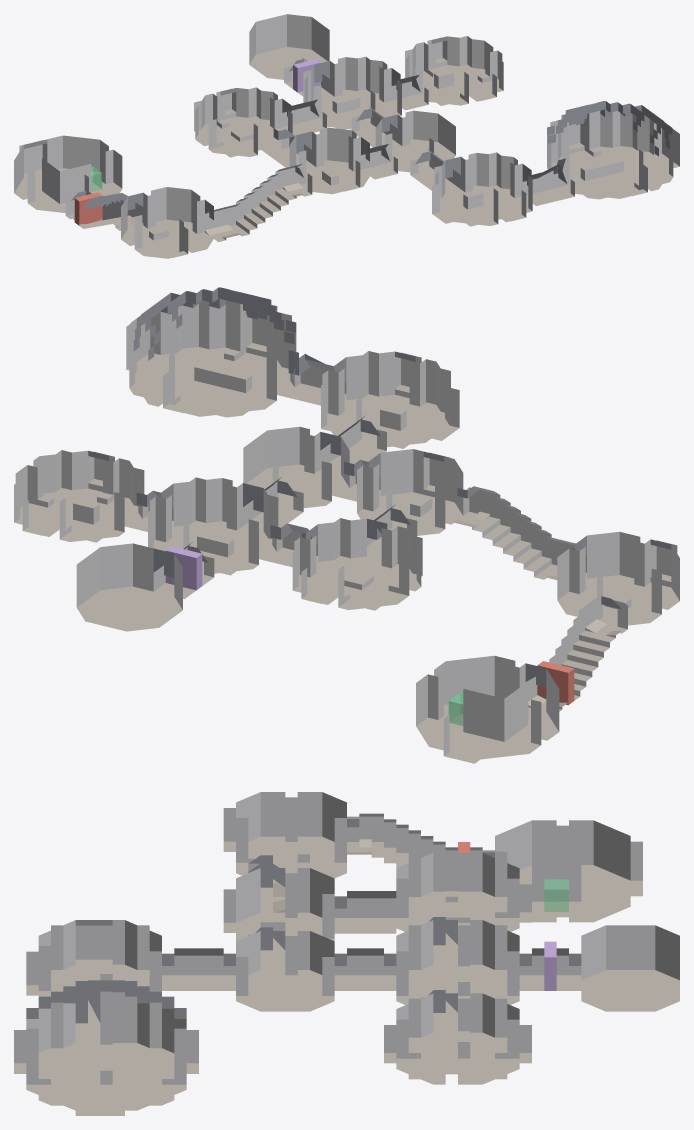
File: station_3_tree_research.glb
3 renders of one model, top to bottom at view 1: azimuth 30°, elevation 25°; view 2: azimuth 150°, elevation 25°; view 3: azimuth 270°, elevation 25°, orthographic. The views are drawn at different scales.
Visible parts, largest first — view 1: room:7, room:8, room:4, room:6, room:5, room:9, room:2, room:3, corridor:1, room:0, room:1, corridor:2 (+27 smaller); view 2: room:7, room:8, room:4, room:3, room:9, room:6, room:5, room:2, room:1, room:0, corridor:1, corridor:2 (+24 smaller); view 3: room:7, room:3, room:9, room:6, room:5, room:4, room:2, room:0, room:8, room:1, corridor:2, corridor:7 (+29 smaller).
Part boxes in pixels (x1=…): room:7: x1=547, y1=101, x2=673, y2=199; room:8: x1=434, y1=152, x2=532, y2=226; room:4: x1=194, y1=87, x2=292, y2=157; room:6: x1=405, y1=36, x2=503, y2=105; room:5: x1=303, y1=56, x2=401, y2=130; room:9: x1=249, y1=14, x2=329, y2=80; room:2: x1=121, y1=187, x2=213, y2=258; room:3: x1=14, y1=135, x2=122, y2=213; corridor:1: x1=205, y1=164, x2=312, y2=241; room:0: x1=375, y1=110, x2=455, y2=173; room:1: x1=289, y1=127, x2=369, y2=194; corridor:2: x1=65, y1=191, x2=143, y2=230; room:7: x1=129, y1=287, x2=296, y2=417; room:8: x1=321, y1=351, x2=450, y2=448; room:4: x1=292, y1=518, x2=422, y2=610; room:3: x1=416, y1=655, x2=559, y2=759; room:9: x1=76, y1=543, x2=182, y2=631; room:6: x1=14, y1=450, x2=144, y2=542; room:5: x1=148, y1=477, x2=278, y2=575; room:2: x1=557, y1=531, x2=679, y2=626; room:1: x1=357, y1=449, x2=463, y2=535; room:0: x1=243, y1=426, x2=349, y2=509; corridor:1: x1=452, y1=486, x2=586, y2=579; corridor:2: x1=525, y1=596, x2=627, y2=711; room:7: x1=26, y1=980, x2=186, y2=1110; room:3: x1=495, y1=820, x2=630, y2=922; room:9: x1=581, y1=925, x2=679, y2=1011; room:6: x1=396, y1=993, x2=519, y2=1084; room:5: x1=396, y1=920, x2=519, y2=1016; room:4: x1=396, y1=852, x2=519, y2=943; room:2: x1=236, y1=792, x2=346, y2=883; room:0: x1=236, y1=931, x2=334, y2=1011; room:8: x1=38, y1=920, x2=161, y2=1016; room:1: x1=236, y1=868, x2=334, y2=954; corridor:2: x1=347, y1=813, x2=494, y2=867; corridor:7: x1=162, y1=948, x2=235, y2=990.
Size of the model in its own units: 61 by 13 by 54.
